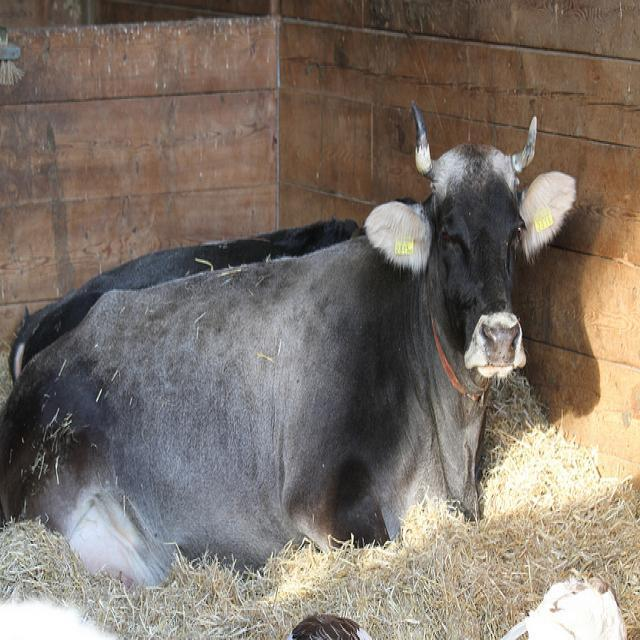cow: (5, 90, 593, 599), (10, 223, 356, 375)
